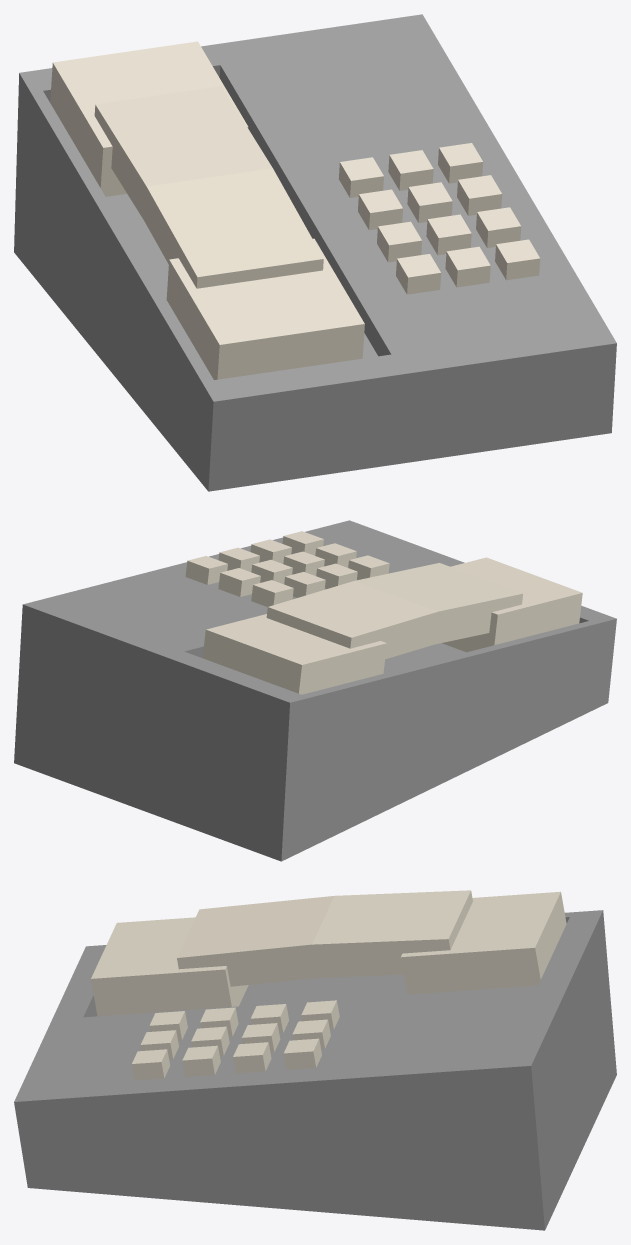
Rendered from phone.glb.
3 renders of one model, top to bottom at view 1: azimuth 30°, elevation 25°; view 2: azimuth 150°, elevation 25°; view 3: azimuth 270°, elevation 25°, orthographic. The views are drawn at different scales.
Parts seen in each view (by area): view 1: Phone_stand, Phonehandle; view 2: Phone_stand, Phonehandle; view 3: Phone_stand, Phonehandle.
Part boxes in pixels (<box>): Phone_stand: <box>14,14,616,491</box>; Phonehandle: <box>50,41,364,379</box>; Phone_stand: <box>14,520,616,861</box>; Phonehandle: <box>202,557,582,694</box>; Phone_stand: <box>14,910,616,1230</box>; Phonehandle: <box>91,890,566,1016</box>.
Bounding box in the file's own units: 20.09 × 8.74 × 25.66.
1 material, 1 textured.
